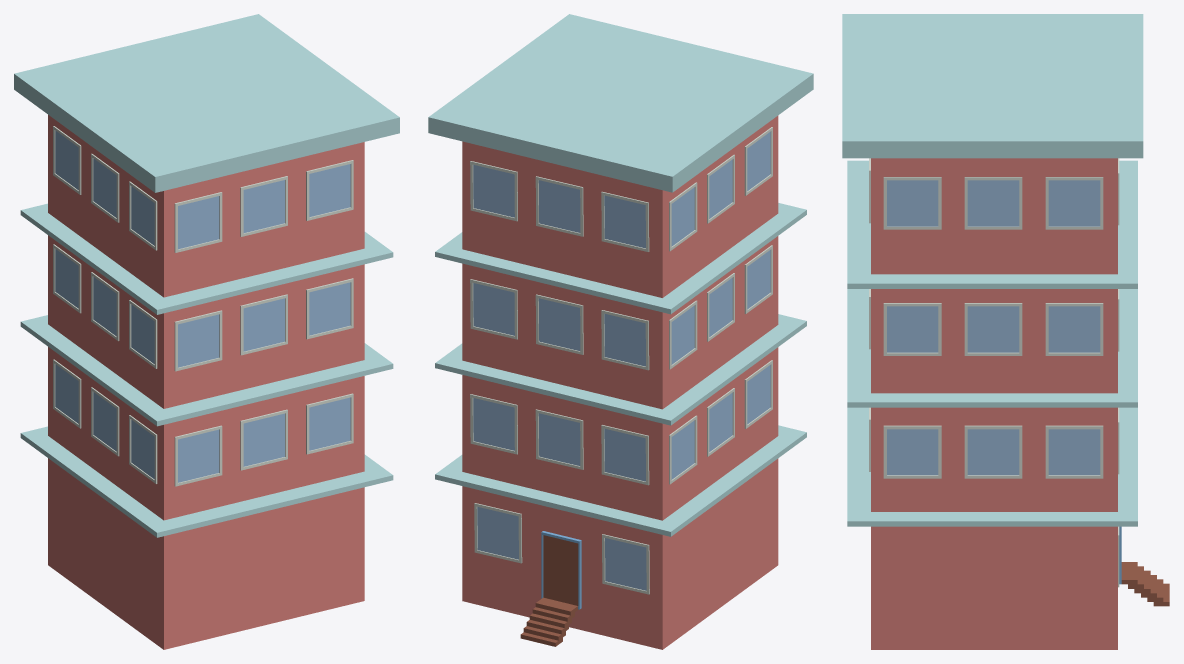
File: low_poly_building_fbx.fbx
3 views of the same model, side by side, from view 1: azimuth 30°, elevation 25°; view 2: azimuth 150°, elevation 25°; view 3: azimuth 270°, elevation 25° (orthographic). The views are drawn at different scales.
Visible parts, largest first — view 1: Building, Cieling, Windows Mirros, Ground Gaps, Windows Border; view 2: Building, Cieling, Windows Mirros, Ground Gaps, Windows Border, Door, Stairs, Door Border; view 3: Building, Cieling, Ground Gaps, Windows Mirros, Windows Border, Stairs.
Boxes of the visible parts, left/top/right/bottom form: Building: left=48, top=115, right=364, bottom=649; Cieling: left=14, top=14, right=399, bottom=192; Windows Mirros: left=55, top=130, right=350, bottom=482; Ground Gaps: left=20, top=203, right=393, bottom=537; Windows Border: left=53, top=126, right=353, bottom=486; Building: left=462, top=115, right=778, bottom=649; Cieling: left=428, top=14, right=813, bottom=192; Windows Mirros: left=473, top=132, right=770, bottom=590; Ground Gaps: left=435, top=203, right=806, bottom=536; Windows Border: left=470, top=127, right=772, bottom=594; Door: left=543, top=535, right=578, bottom=606; Stairs: left=520, top=597, right=577, bottom=646; Door Border: left=541, top=531, right=581, bottom=609; Building: left=871, top=158, right=1117, bottom=649; Cieling: left=842, top=14, right=1143, bottom=158; Ground Gaps: left=847, top=160, right=1137, bottom=526; Windows Mirros: left=887, top=180, right=1100, bottom=475; Windows Border: left=869, top=158, right=1119, bottom=587; Stairs: left=1121, top=562, right=1169, bottom=606.
Bounding box in the file's own units: 919 × 1752 × 999.
